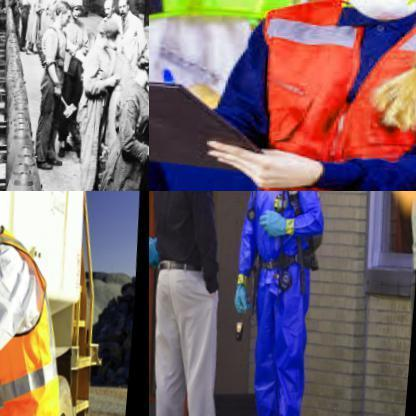vest: (246, 0, 415, 190), (0, 224, 82, 415), (233, 191, 336, 278)
